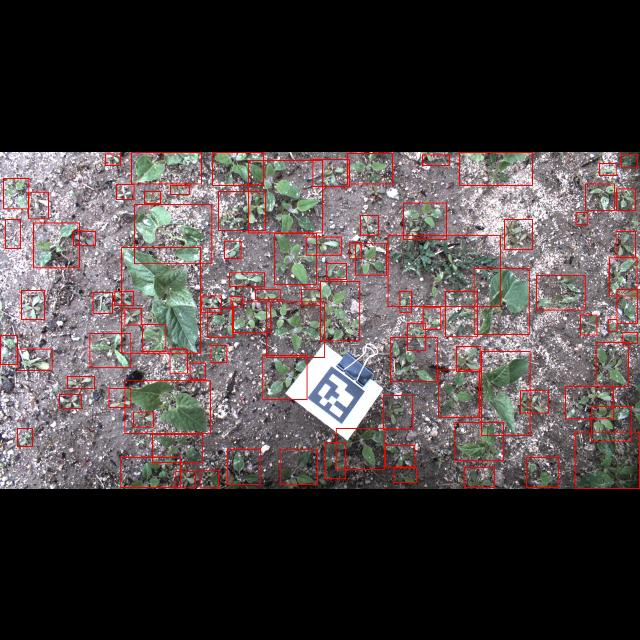crop: (122, 247, 200, 353), (134, 203, 212, 263), (125, 381, 211, 434), (482, 350, 530, 436), (474, 268, 528, 334), (131, 151, 201, 183), (454, 422, 504, 460)
weed: (388, 234, 500, 306), (249, 160, 323, 232), (574, 432, 640, 488), (267, 301, 325, 357), (320, 281, 360, 341), (460, 152, 532, 184), (275, 232, 317, 284), (33, 222, 79, 268), (391, 336, 437, 382), (263, 354, 307, 400), (438, 369, 479, 417), (218, 190, 266, 230), (336, 428, 384, 468), (121, 457, 181, 487), (536, 274, 586, 310), (212, 152, 264, 184), (565, 386, 613, 418), (404, 202, 446, 238), (445, 290, 477, 336), (153, 433, 203, 462), (348, 152, 392, 184), (596, 342, 628, 386), (90, 333, 130, 367), (591, 406, 631, 440), (280, 450, 318, 484), (228, 449, 260, 485), (232, 302, 270, 332), (609, 257, 637, 295), (313, 158, 349, 186), (355, 243, 387, 274), (383, 395, 412, 429), (526, 457, 558, 487), (504, 219, 532, 249), (586, 182, 614, 210), (208, 308, 234, 337), (616, 289, 638, 323), (4, 178, 28, 208), (325, 442, 345, 478), (18, 348, 52, 369), (22, 289, 44, 319), (385, 445, 415, 467), (142, 324, 166, 351), (520, 390, 548, 412), (306, 236, 340, 254), (464, 467, 494, 487), (456, 346, 480, 370), (28, 190, 48, 218), (408, 322, 427, 350), (616, 230, 636, 256), (1, 334, 18, 364), (230, 272, 264, 286), (93, 291, 113, 313), (109, 387, 131, 407), (616, 188, 636, 210), (170, 349, 188, 373), (6, 218, 20, 248), (423, 307, 441, 329), (175, 470, 195, 488), (360, 215, 378, 235), (580, 314, 598, 334), (302, 288, 321, 306), (224, 240, 242, 258), (200, 470, 218, 488), (326, 262, 346, 278), (202, 296, 222, 312), (68, 376, 94, 388), (73, 230, 95, 244), (59, 394, 81, 408), (394, 468, 416, 482), (115, 290, 134, 306), (190, 362, 206, 380), (134, 412, 154, 426), (422, 154, 450, 164), (125, 308, 142, 324), (211, 346, 227, 362), (116, 184, 134, 198), (18, 428, 32, 446), (256, 289, 280, 299), (621, 153, 637, 167), (400, 290, 410, 312), (598, 162, 616, 174), (144, 191, 160, 203), (170, 184, 190, 193), (350, 242, 360, 258), (622, 332, 638, 342), (576, 212, 588, 224), (106, 154, 120, 164), (231, 296, 243, 306), (609, 319, 617, 331)
